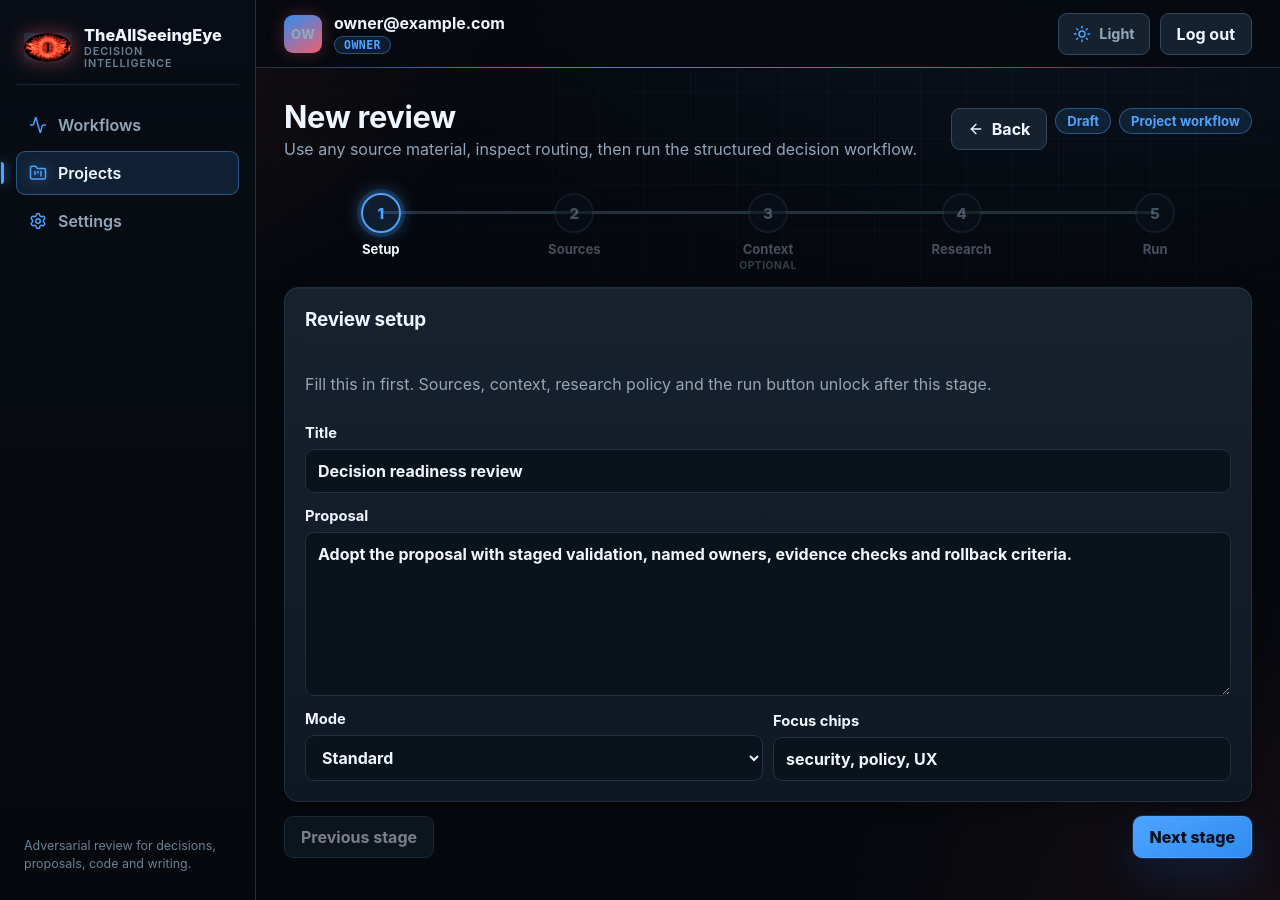
Test: new review context packs › renders empty Markdown context previews
The image size is (1280, 900).
Click the button "Next stage". click: [1192, 837]
box: [1132,816,1252,858]
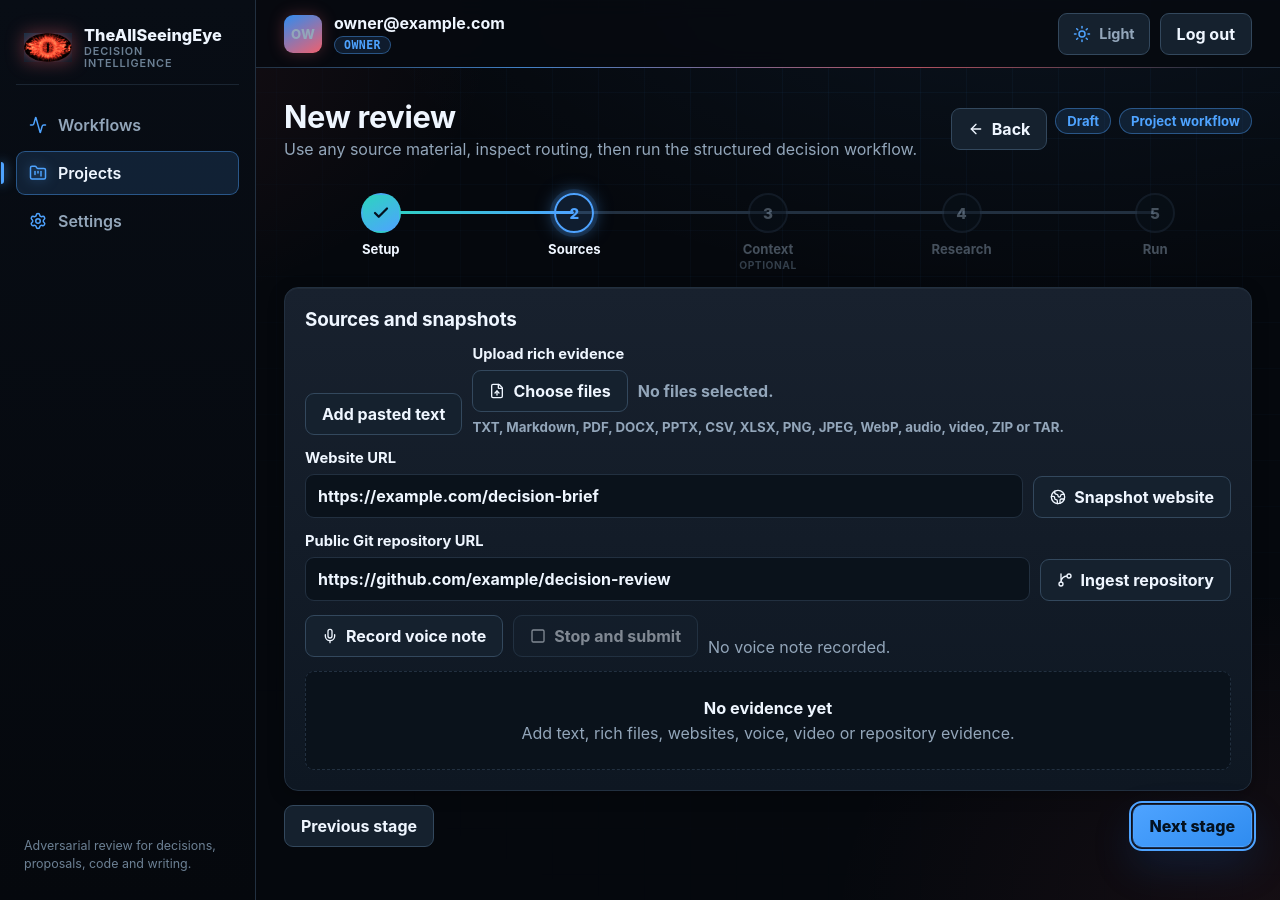
Click the button "Next stage". click: [1192, 826]
box: [1132,805,1252,847]
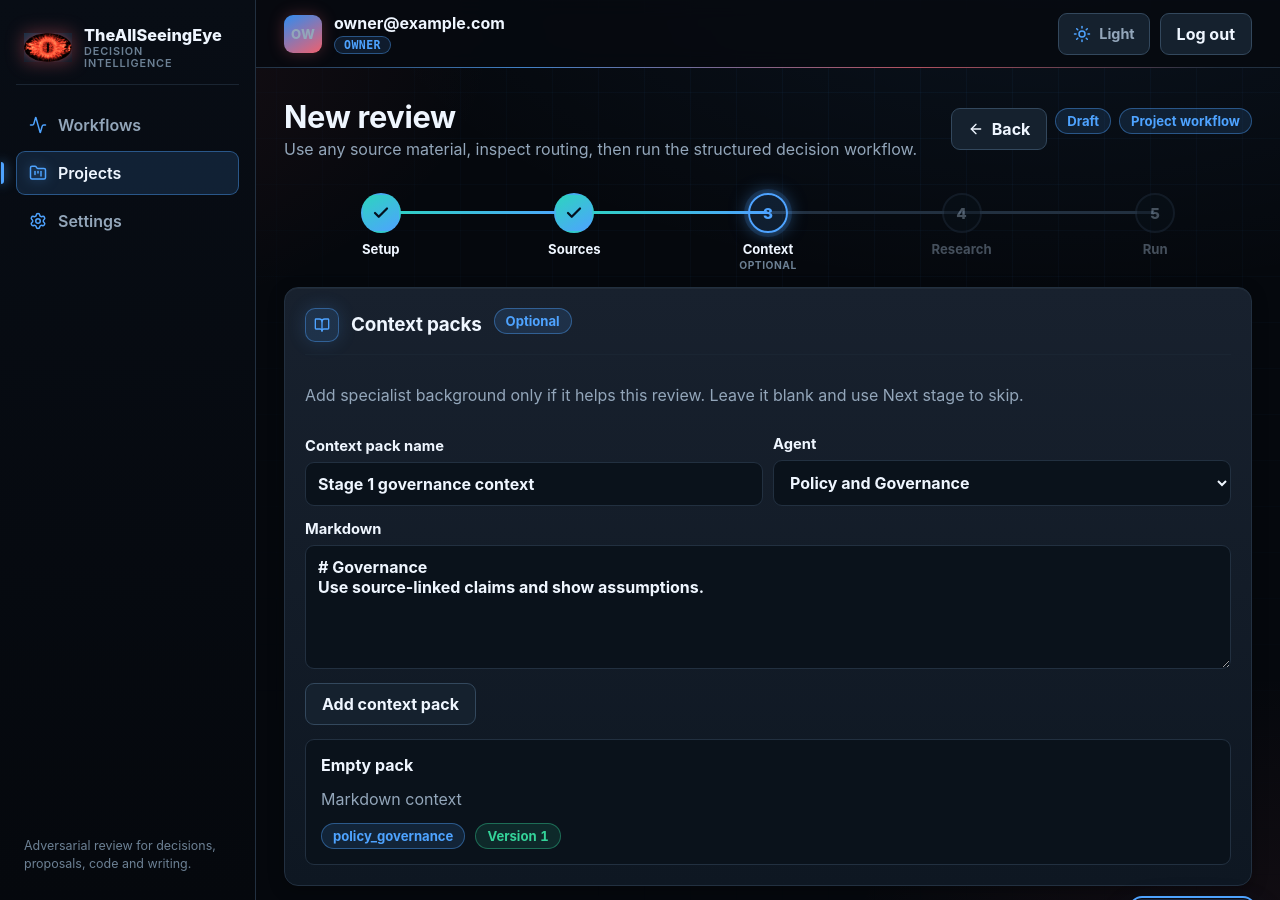
Expected: the text "Markdown context" is shown, [321,789,462,809]
